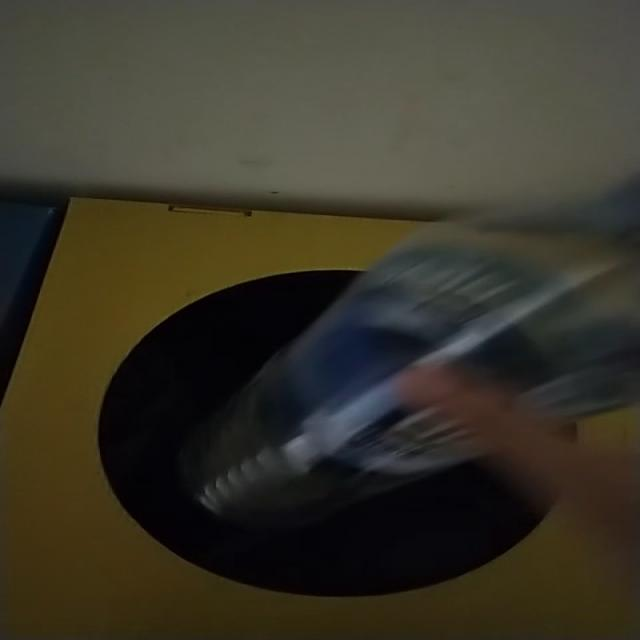plastic: (183, 192, 637, 528)
